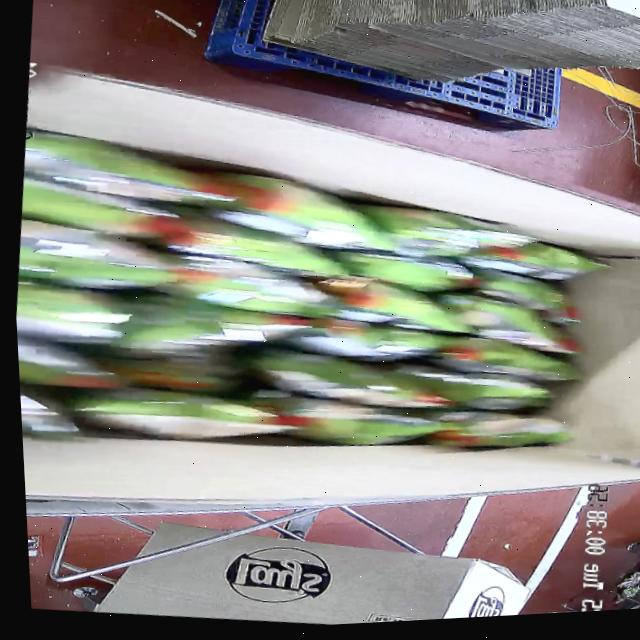YOGURT_HERB: (7, 99, 633, 495)
